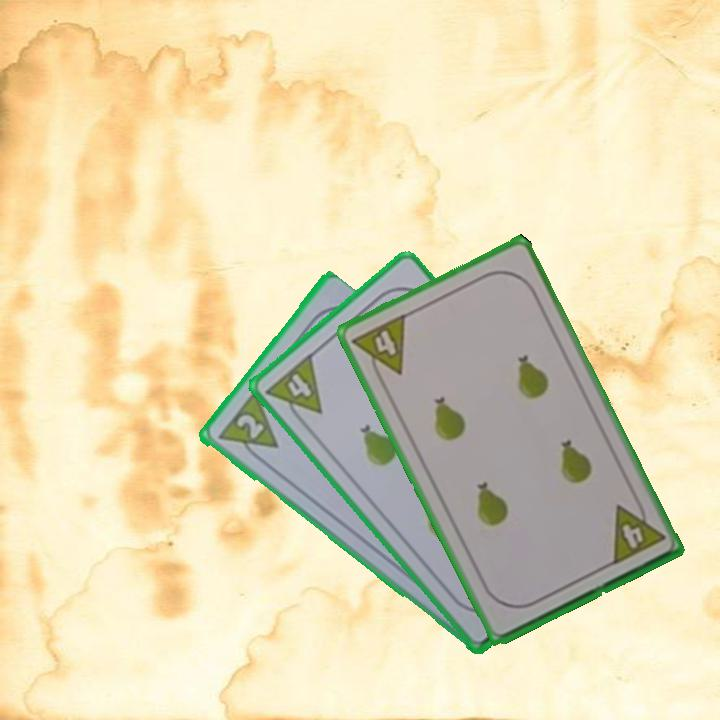2p: (231, 410, 266, 442)
4p: (262, 349, 325, 430), (348, 310, 409, 387), (607, 494, 668, 568)
